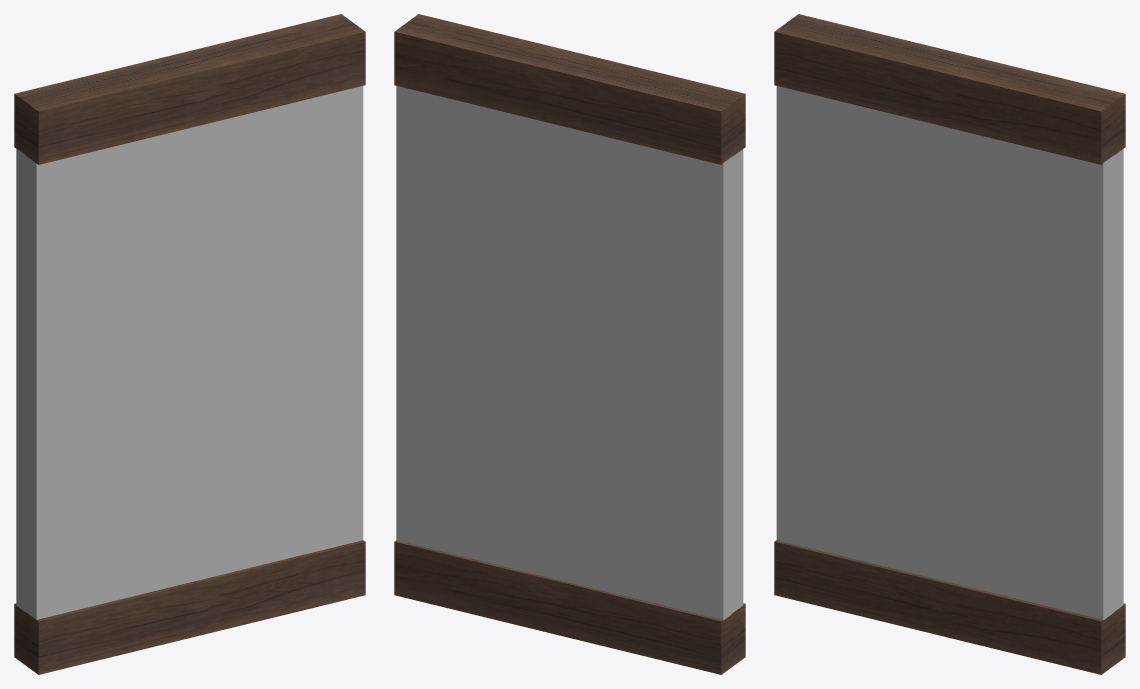
The model's file is yane_frame_side_0t_b.fbx.
3 views of the same model, side by side, from view 1: azimuth 30°, elevation 25°; view 2: azimuth 150°, elevation 25°; view 3: azimuth 330°, elevation 25° (orthographic).
Parts seen in each view (by area): view 1: yane_frame_side_0t_b; view 2: yane_frame_side_0t_b; view 3: yane_frame_side_0t_b.
Boxes of the visible parts, x1,y1,x2,y2 form: yane_frame_side_0t_b: [14, 14, 365, 674]; yane_frame_side_0t_b: [394, 14, 745, 674]; yane_frame_side_0t_b: [774, 14, 1125, 674].
Size of the model in its own units: 110 by 181 by 14.1.
